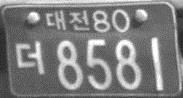0: (111, 8, 130, 34)
1: (149, 35, 166, 92)
5: (85, 37, 113, 91)
8: (55, 39, 84, 90), (114, 39, 142, 91), (91, 9, 111, 33)
대전_O: (44, 9, 91, 33)
더: (14, 40, 45, 76)
